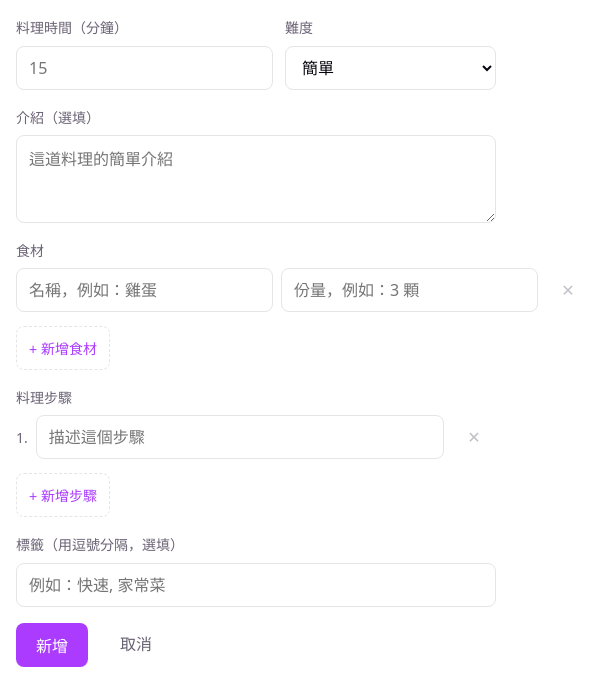
Test: RecipeForm.vue (create mode) › adds and removes step rows, disabling remove when only one is left
(page scrolled)
Click the button with class "add-row" showing "+ 新增步驟" at [63, 495], box [16,473,110,517]
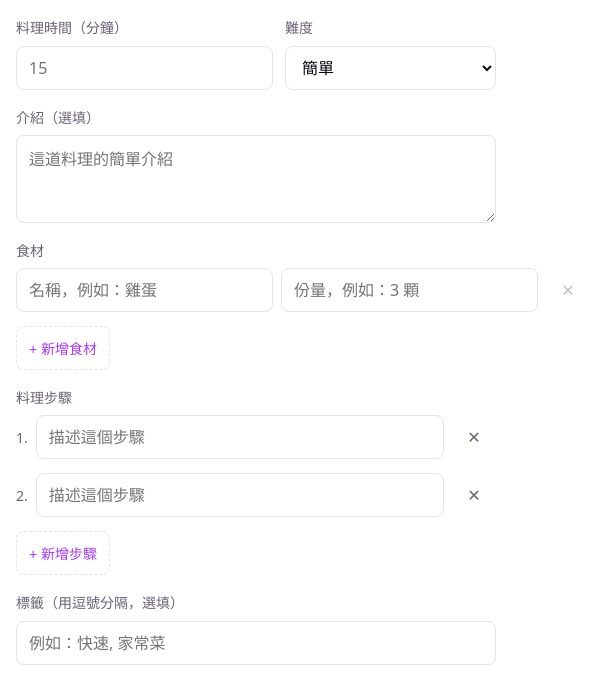
Expected: the number of buttons named "移除這個步驟" is 2
Expected: the button named "移除這個步驟" is enabled
Click the button named "移除這個步驟" at [474, 437], box [452,415,496,459]
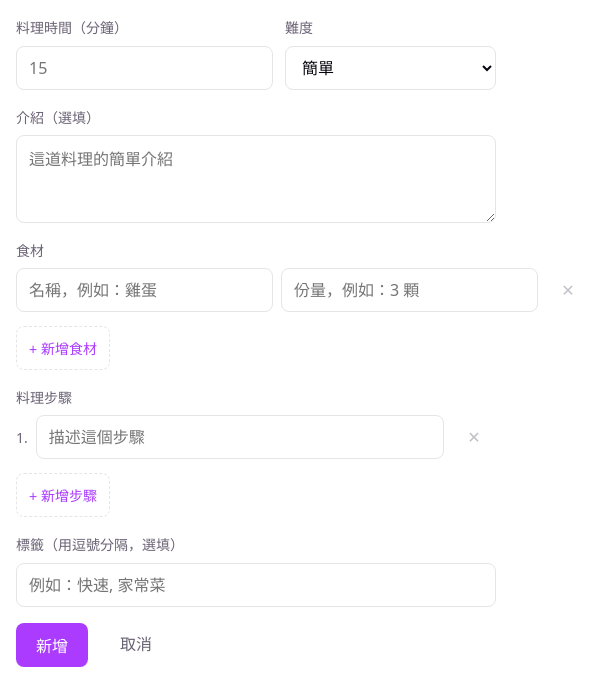
Expected: the button named "移除這個步驟" is disabled, [452,415,496,459]
